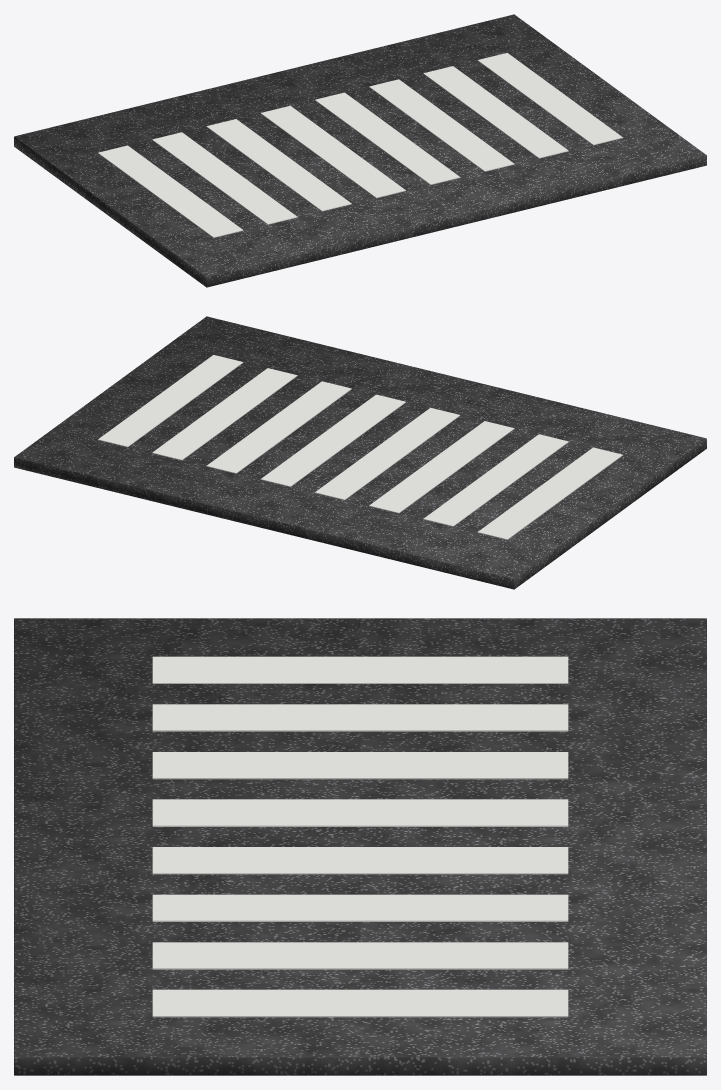
The model's file is Road_Crosswalk.fbx.
3 views of the same model, one above another, from view 1: azimuth 30°, elevation 25°; view 2: azimuth 150°, elevation 25°; view 3: azimuth 270°, elevation 25° (orthographic). The views are drawn at different scales.
Parts seen in each view (by area): view 1: LOD0; view 2: LOD0; view 3: LOD0.
Part boxes in pixels (x1,y1,x2,y2): LOD0: (14, 14, 706, 287); LOD0: (14, 316, 706, 589); LOD0: (14, 618, 706, 1075).
Size of what is drawn, in the model's own units: 600 by 12.8 by 400.
